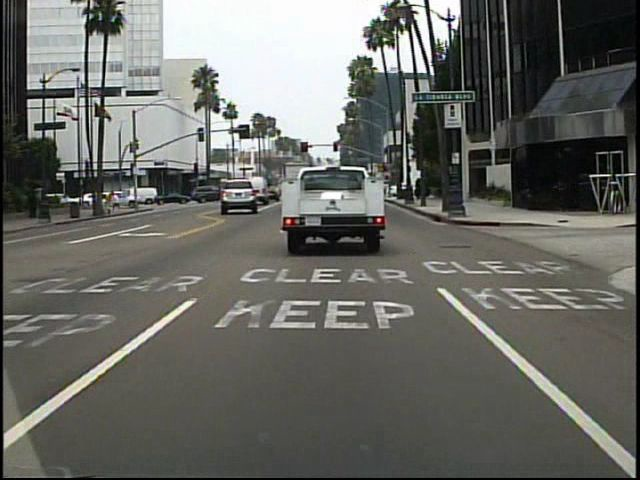person: (111, 190, 124, 216)
